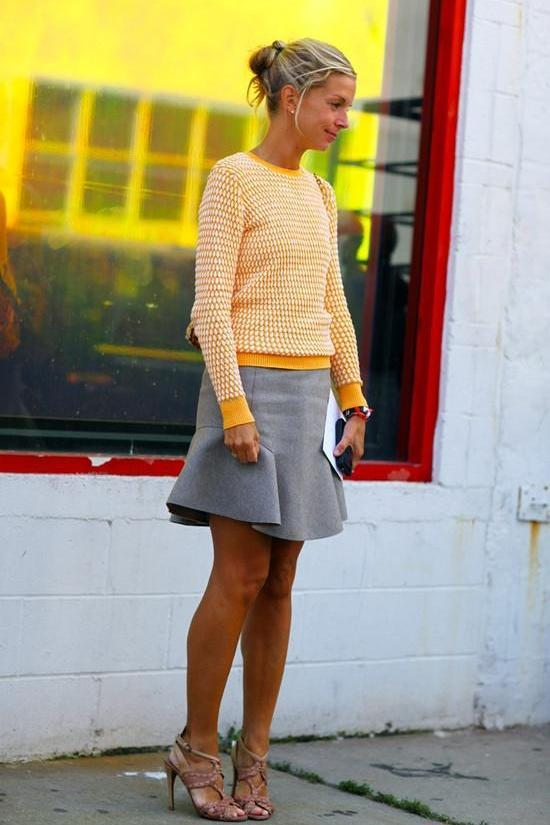skirt: (167, 351, 347, 540)
sweater: (191, 150, 371, 430)
